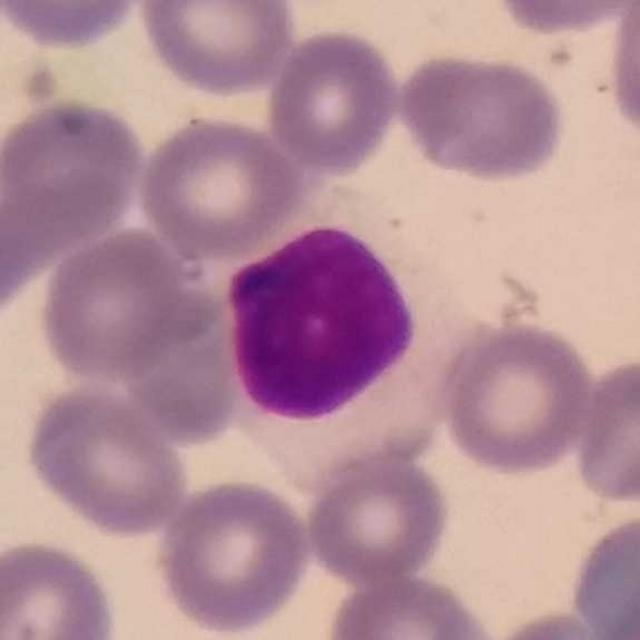Lymphocyte: (220, 194, 480, 492)
RBC: (35, 224, 217, 385), (19, 380, 191, 540), (150, 474, 315, 638), (433, 317, 598, 478), (134, 110, 307, 260), (395, 47, 571, 186), (0, 93, 150, 252), (264, 24, 404, 177), (302, 449, 454, 586), (133, 0, 300, 99), (0, 535, 122, 639), (323, 571, 496, 640), (571, 352, 640, 509), (565, 510, 640, 640), (0, 0, 151, 52), (487, 0, 638, 37), (603, 0, 640, 149), (480, 606, 631, 640)
